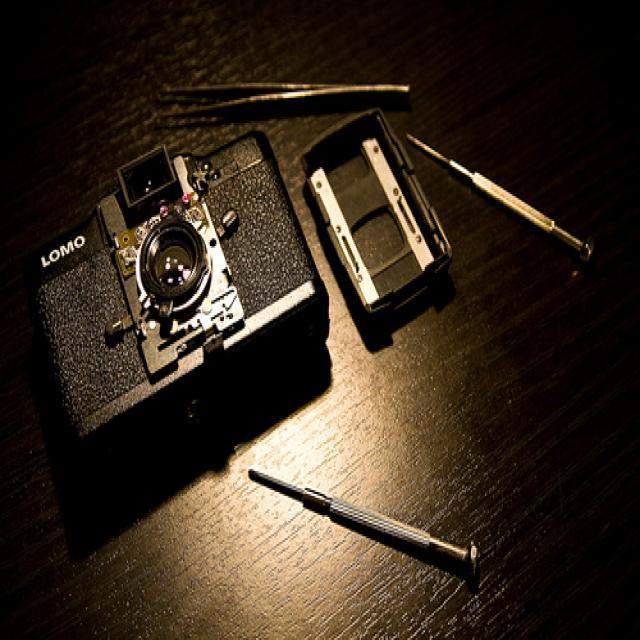screwdriver: (231, 449, 494, 589), (398, 111, 616, 272)
